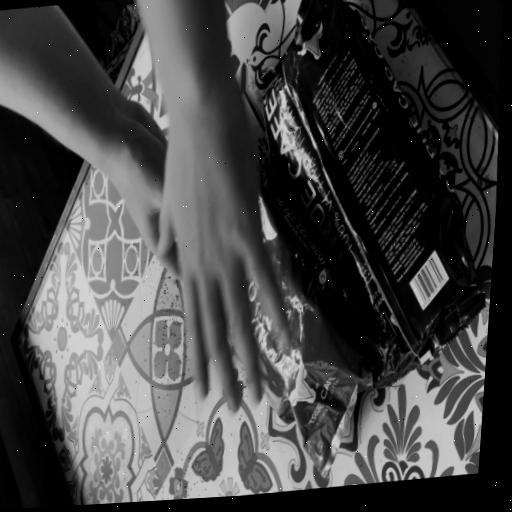cafe_hat: (261, 0, 484, 385)
cafe_xay: (248, 164, 384, 476)
